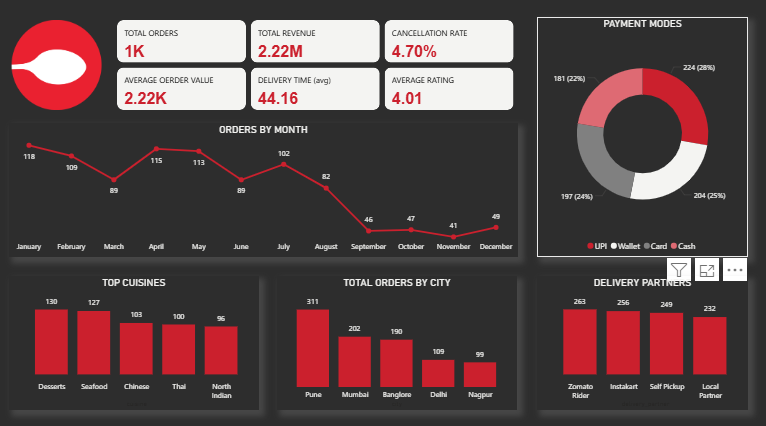

This screenshot's page, from the dashboard's own definition file:
{"tool":"powerbi","page":{"name":"Page 1","canvas":[1280,720],"ordinal":0},"visuals":[{"type":"cardVisual","fields":{"Data":["zomato_1000_dirty.total_orders","zomato_1000_dirty.total_revenue","zomato_1000_dirty.cancellation_rate","zomato_1000_dirty.aov","zomato_1000_dirty.avg_delivery_time","Avg(zomato_1000_dirty.ratings)"]},"box":[192,32,672,160],"z":0},{"type":"image","box":[0,32,192,160],"z":2},{"type":"columnChart","title":"TOTAL ORDERS BY CITY","fields":{"Category":["zomato_1000_dirty.city"],"Y":["CountNonNull(zomato_1000_dirty.order_id)"]},"box":[464,464,400,224],"z":3},{"type":"lineChart","title":"ORDERS BY MONTH","fields":{"Y":["CountNonNull(zomato_1000_dirty.order_id)"],"Category":["zomato_1000_dirty.order_date.Variation.Date Hierarchy.Month"]},"box":[16,208,848,224],"z":4},{"type":"columnChart","title":"TOP CUISINES","fields":{"Category":["zomato_1000_dirty.cuisine"],"Y":["CountNonNull(zomato_1000_dirty.order_id)"]},"box":[16,464,416,224],"z":5},{"type":"donutChart","title":"PAYMENT MODES","fields":{"Category":["zomato_1000_dirty.payment_type"],"Y":["CountNonNull(zomato_1000_dirty.order_id)"]},"box":[896,32,352,400],"z":7},{"type":"columnChart","title":"DELIVERY PARTNERS","fields":{"Category":["zomato_1000_dirty.delivery_partner"],"Y":["CountNonNull(zomato_1000_dirty.order_id)"]},"box":[896,464,352,224],"z":9}]}

Visuals, with their boxes in screenshot pixels (x1, y1, x2, y2), scaled from the page's 1280x720 canvas onto the 766x426 screenshot:
cardVisual - zomato_1000_dirty.total_orders x zomato_1000_dirty.total_revenue: (left=115, top=19, right=517, bottom=114)
image: (left=0, top=19, right=115, bottom=114)
"TOTAL ORDERS BY CITY" columnChart: (left=278, top=275, right=517, bottom=407)
"ORDERS BY MONTH" lineChart: (left=10, top=123, right=517, bottom=256)
"TOP CUISINES" columnChart: (left=10, top=275, right=259, bottom=407)
"PAYMENT MODES" donutChart: (left=536, top=19, right=747, bottom=256)
"DELIVERY PARTNERS" columnChart: (left=536, top=275, right=747, bottom=407)
